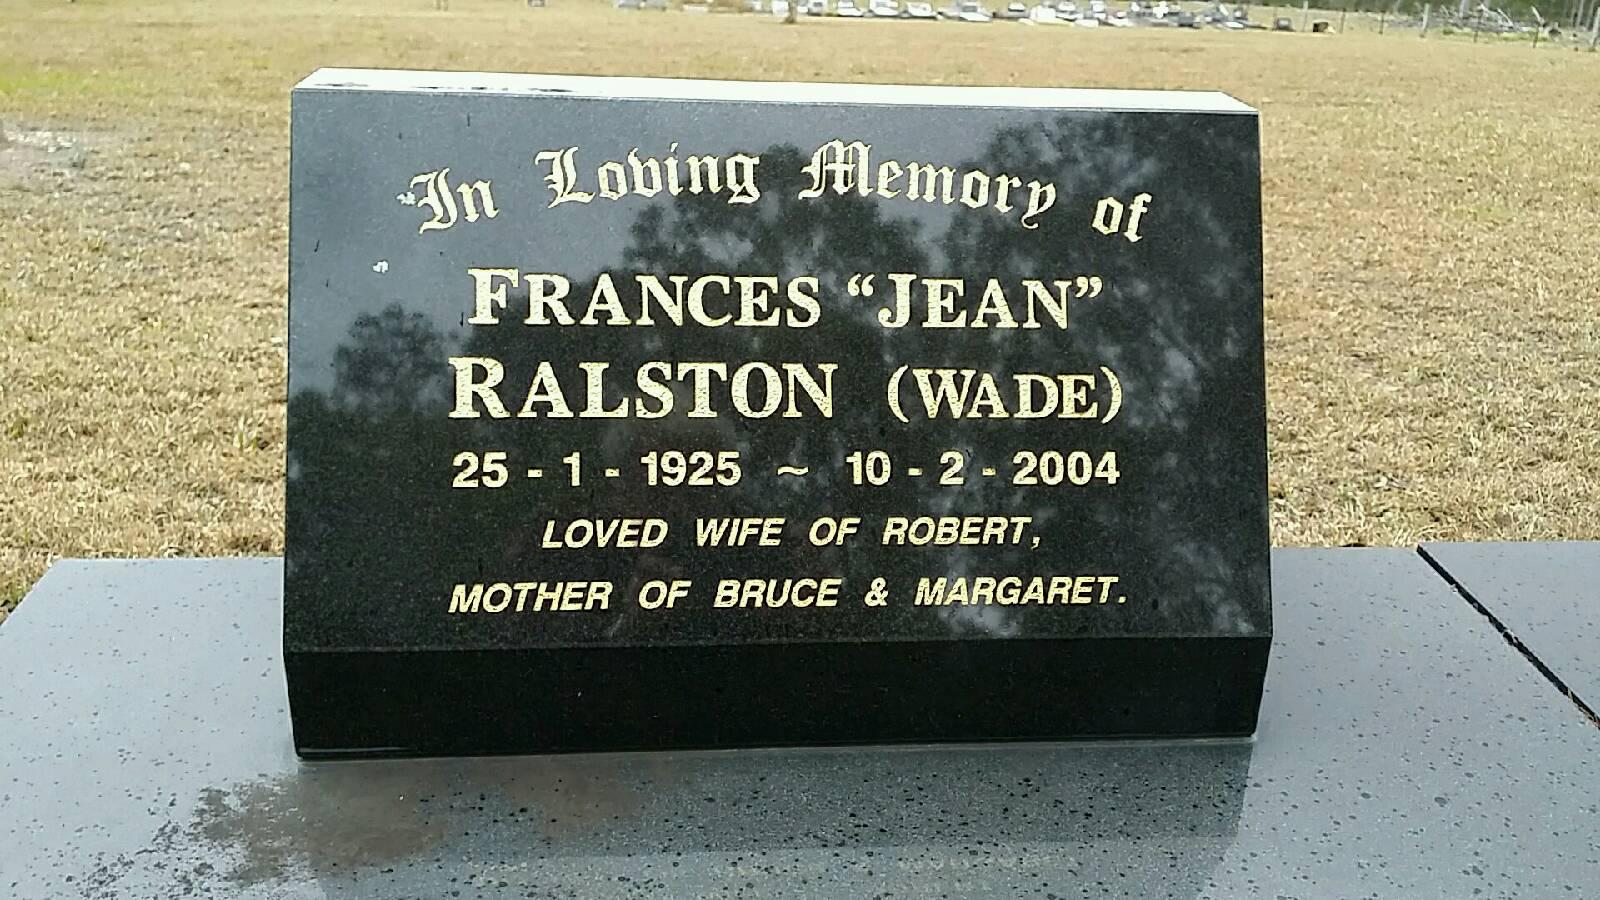slant: (279, 65, 1275, 758)
